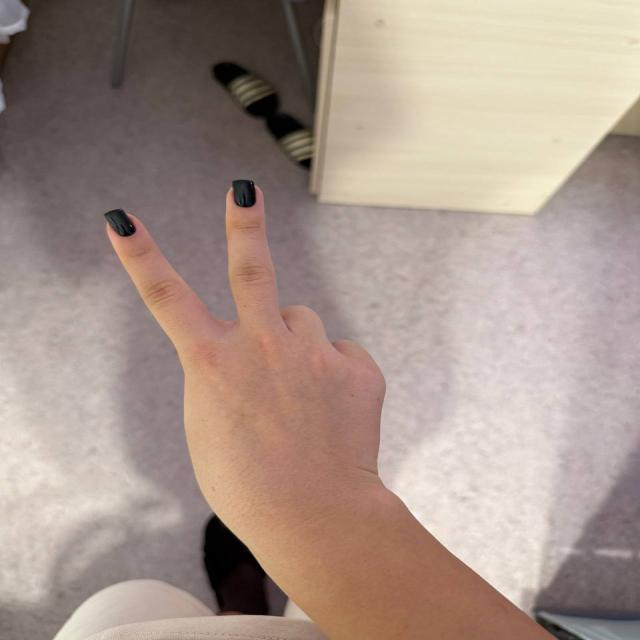l: (78, 168, 373, 462)
